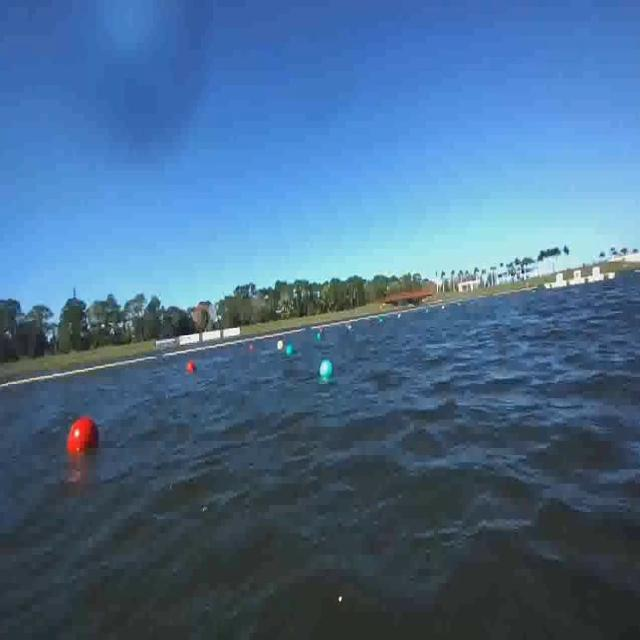green-buoy: (322, 356, 335, 378), (286, 344, 294, 357)
red-buoy: (68, 418, 102, 460), (186, 359, 196, 374)
